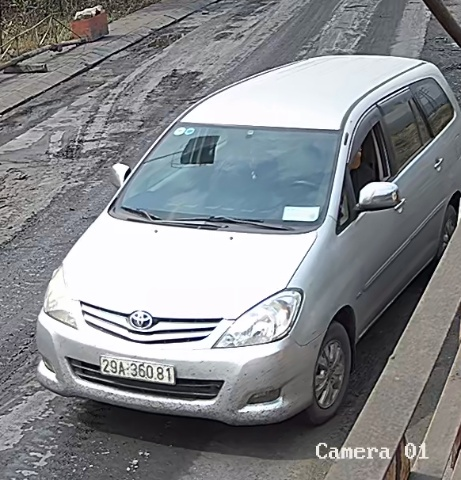vehicle plate: (98, 348, 174, 387)
